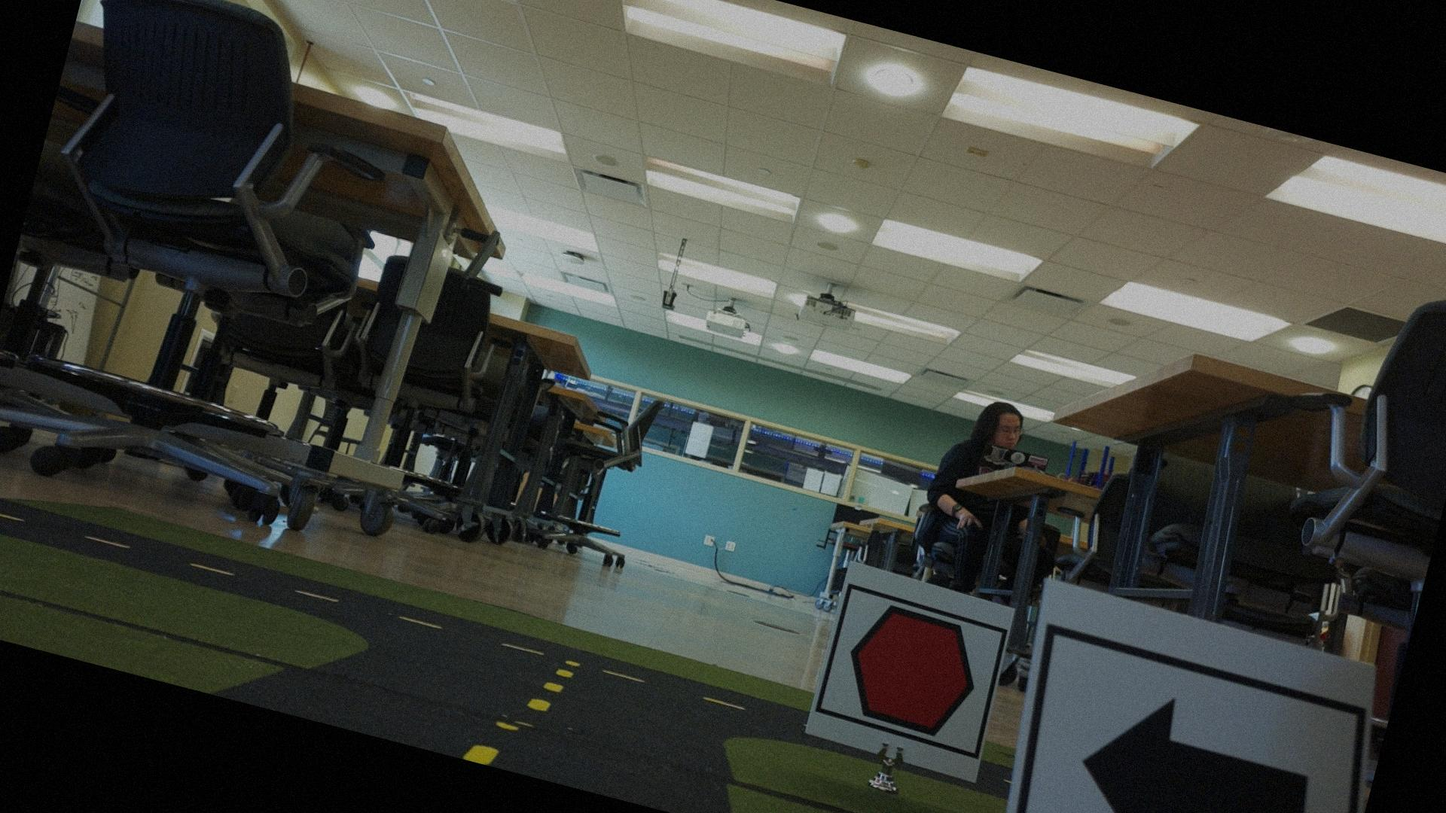stop: (813, 590, 1007, 752)
turnright: (993, 634, 1371, 812)
yellowline: (466, 649, 572, 780)
